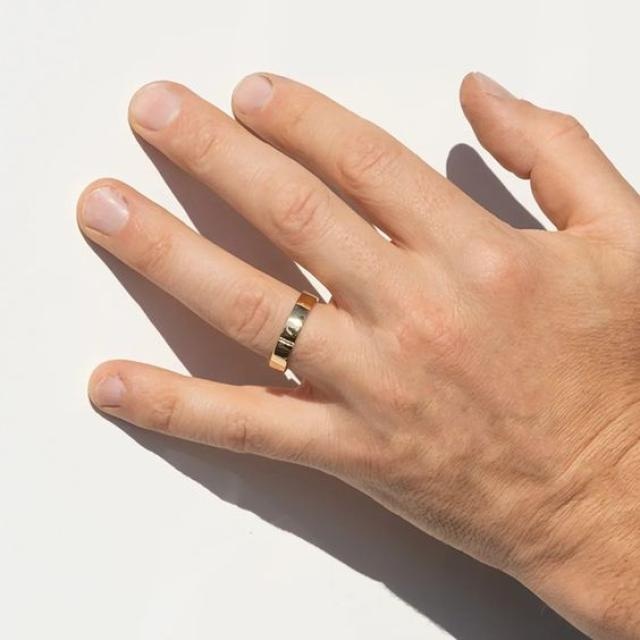Fingernail: (85, 188, 129, 237), (134, 88, 180, 130), (235, 78, 273, 114), (479, 73, 519, 101), (93, 376, 126, 407)
